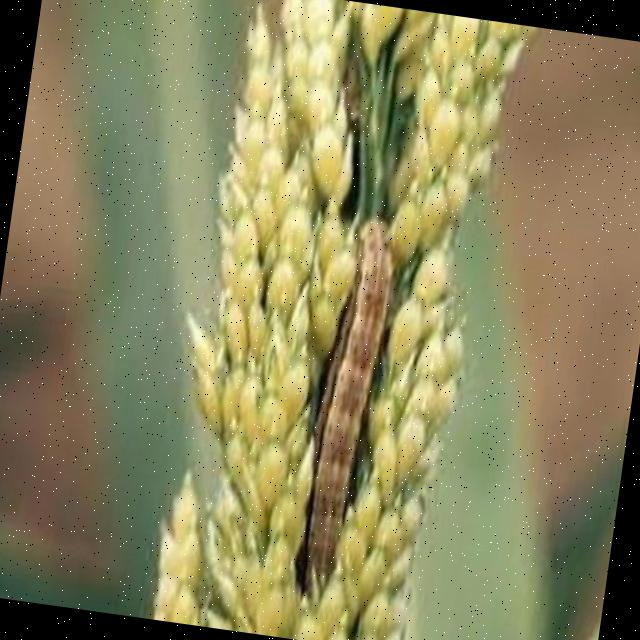worm: (270, 201, 421, 614)
